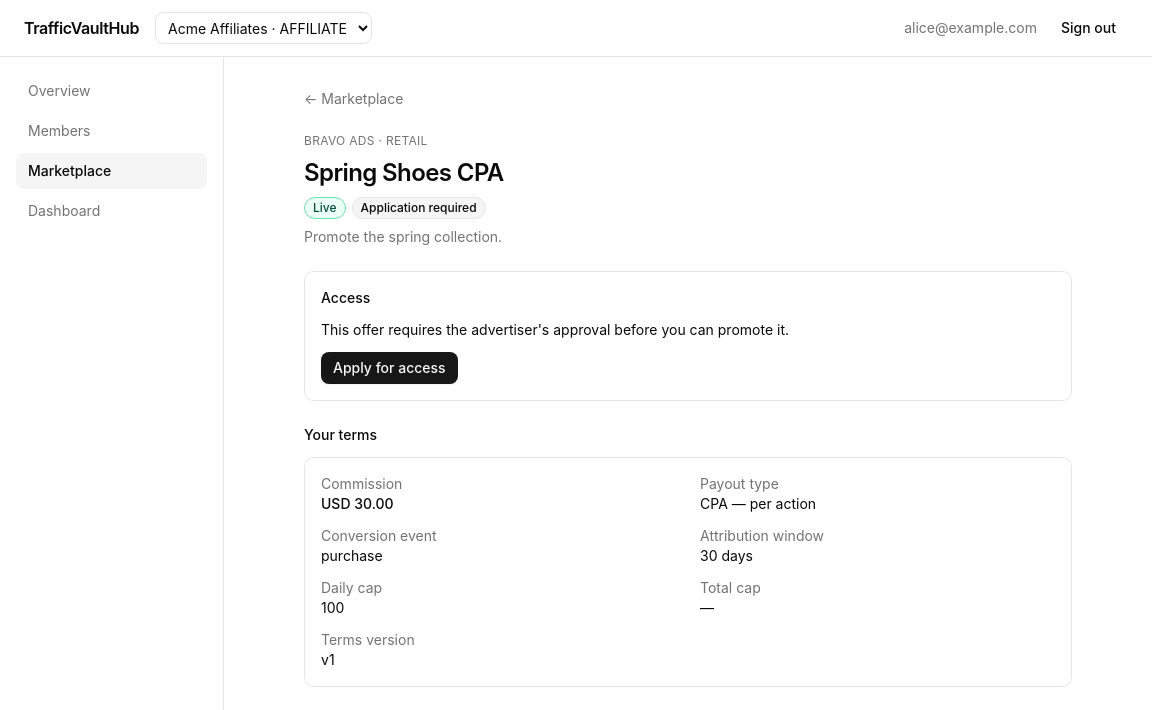
Test: affiliate marketplace › /app/:orgId/marketplace/:offerId › surfaces an apply refusal (ACCESS_NOT_APPLICABLE) without changing the panel
Step 1. Click the button "Apply for access" → (389, 368), box [321,352,458,384]
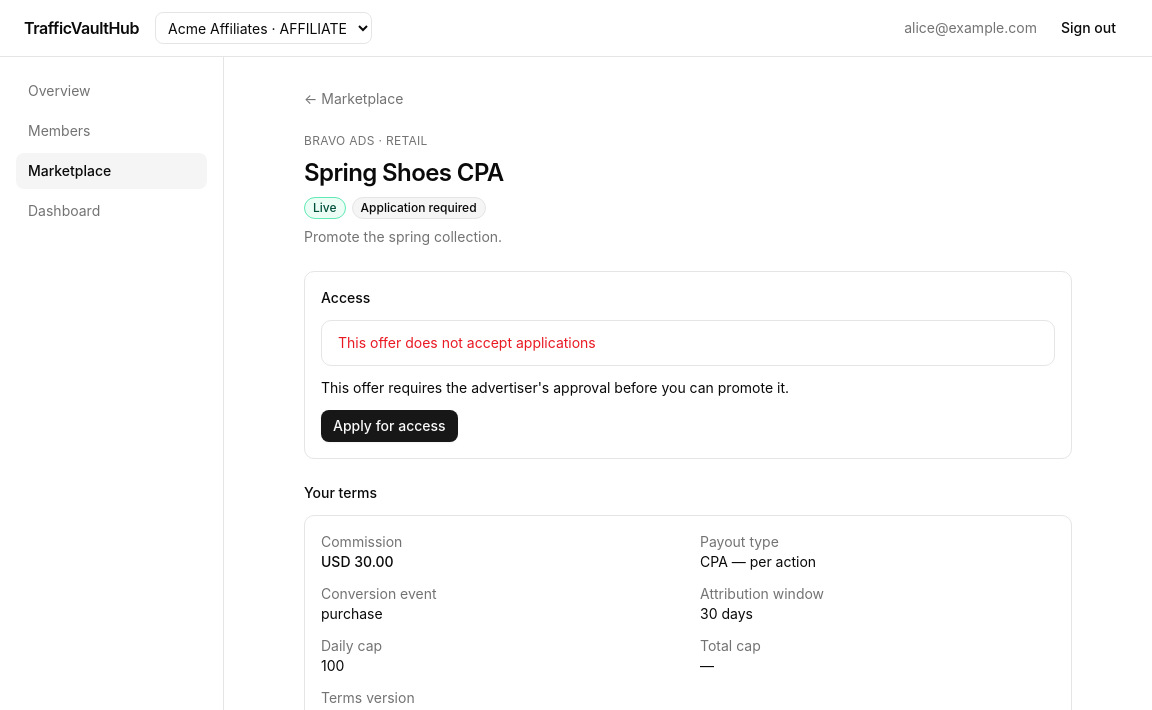
Check: the button "Apply for access" is shown, box [321,410,458,442]
Check: the message reads "This offer does not accept applications", box [338,334,596,351]
